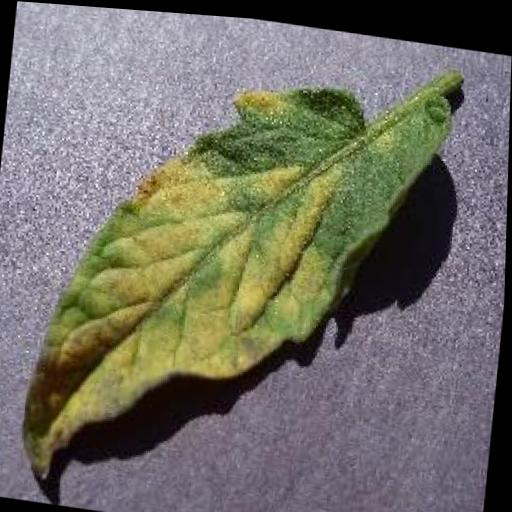Leaf Mold: (15, 30, 455, 512)
